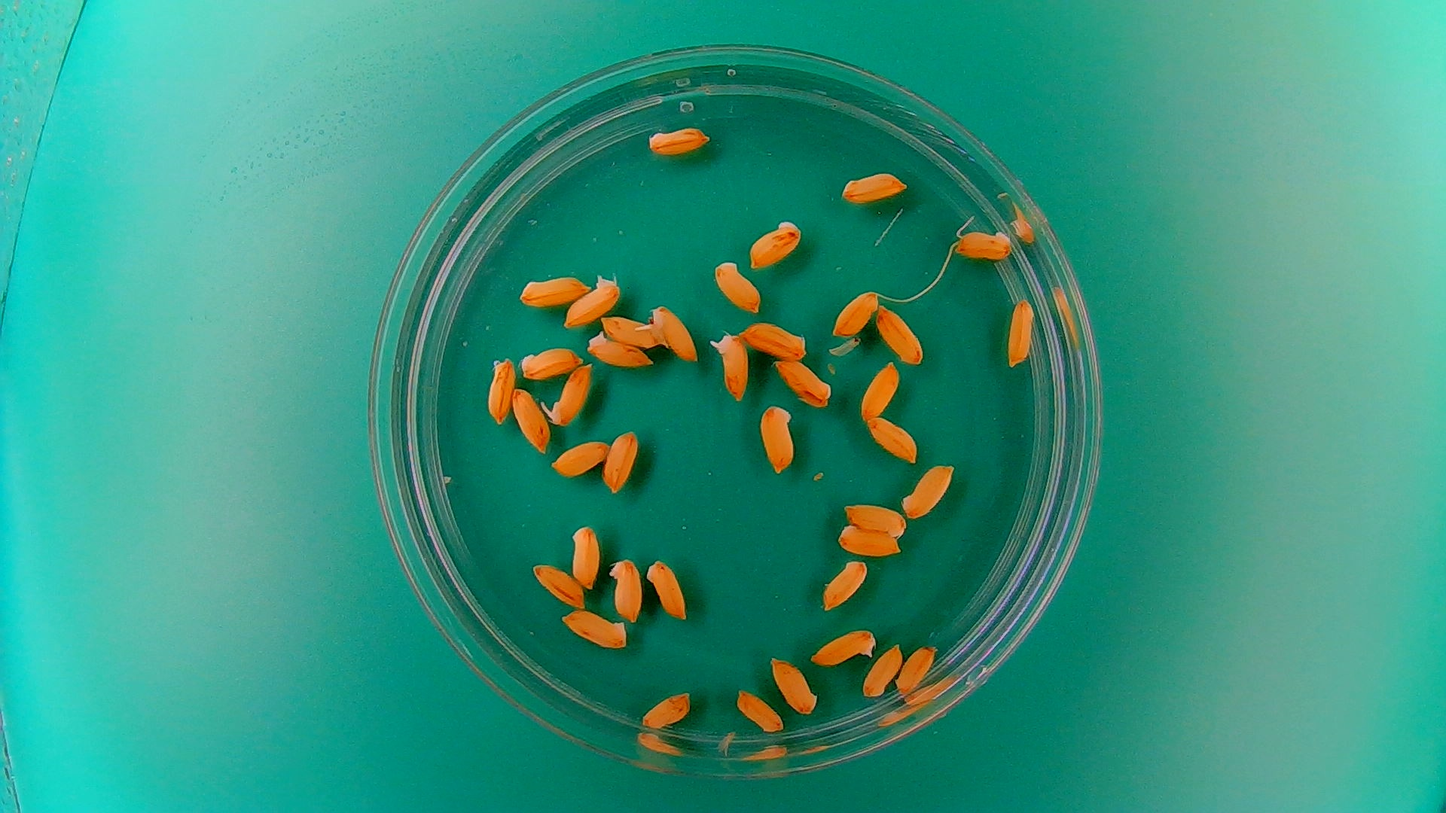no: (561, 270, 622, 329), (899, 460, 956, 522), (745, 217, 805, 272), (772, 355, 834, 408), (768, 654, 820, 717), (873, 302, 925, 365), (559, 605, 628, 650), (644, 554, 689, 622), (510, 385, 552, 457), (810, 624, 880, 667), (836, 167, 909, 208), (711, 257, 764, 313), (819, 556, 871, 612), (739, 320, 810, 361), (863, 414, 920, 465), (758, 400, 796, 476), (517, 270, 591, 309), (530, 559, 586, 609), (548, 435, 611, 479), (859, 640, 904, 701), (602, 426, 641, 495), (858, 360, 901, 422), (584, 330, 652, 369), (606, 553, 643, 623), (840, 501, 908, 539), (830, 287, 880, 338), (895, 641, 941, 696), (517, 343, 584, 380), (734, 686, 786, 733), (950, 224, 1015, 261), (596, 312, 664, 347), (644, 122, 712, 157), (835, 522, 902, 557), (1004, 295, 1036, 368), (639, 687, 693, 730), (569, 520, 602, 590), (484, 352, 515, 423)
yes: (635, 303, 699, 364), (544, 360, 594, 428), (707, 327, 750, 402)
